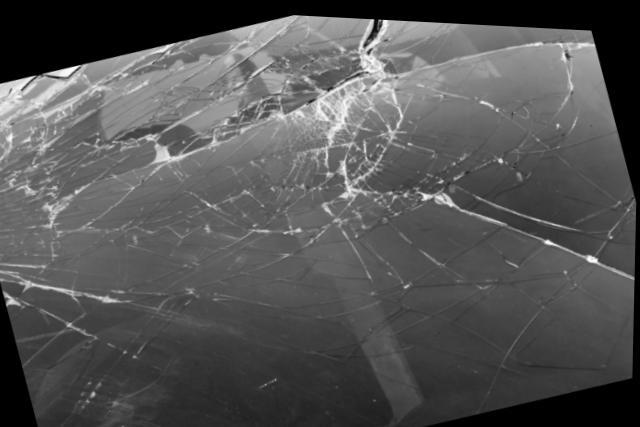glass shatter: (0, 12, 637, 427)
